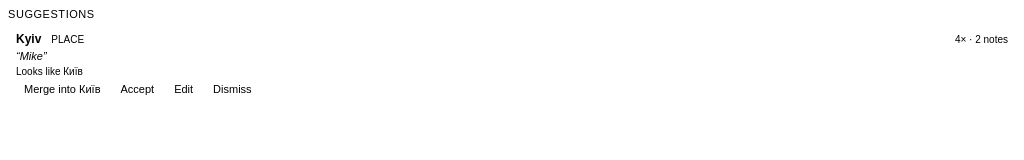
Test: EntitySuggestionsPanel › renders a merge button for a cross-language proposal and accepts with the target id
Click the button with class "tm-suggestions__merge".
click(62, 89)  # box [16, 81, 108, 97]
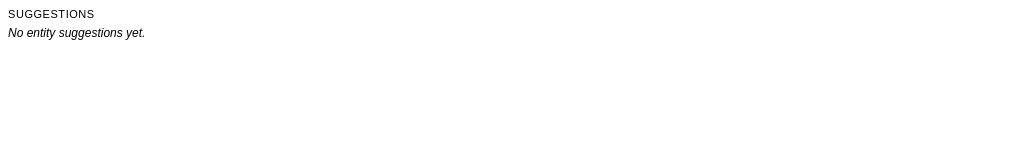
Expected: no elements with class "tm-suggestions__row" are shown
